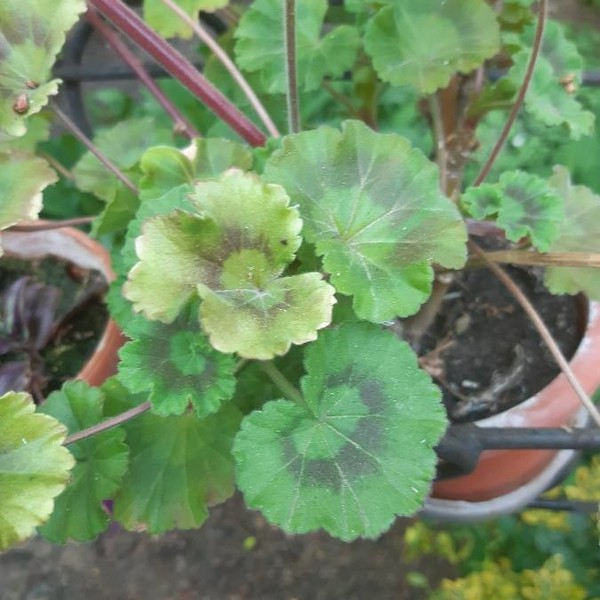obstacle: (132, 27, 569, 530)
